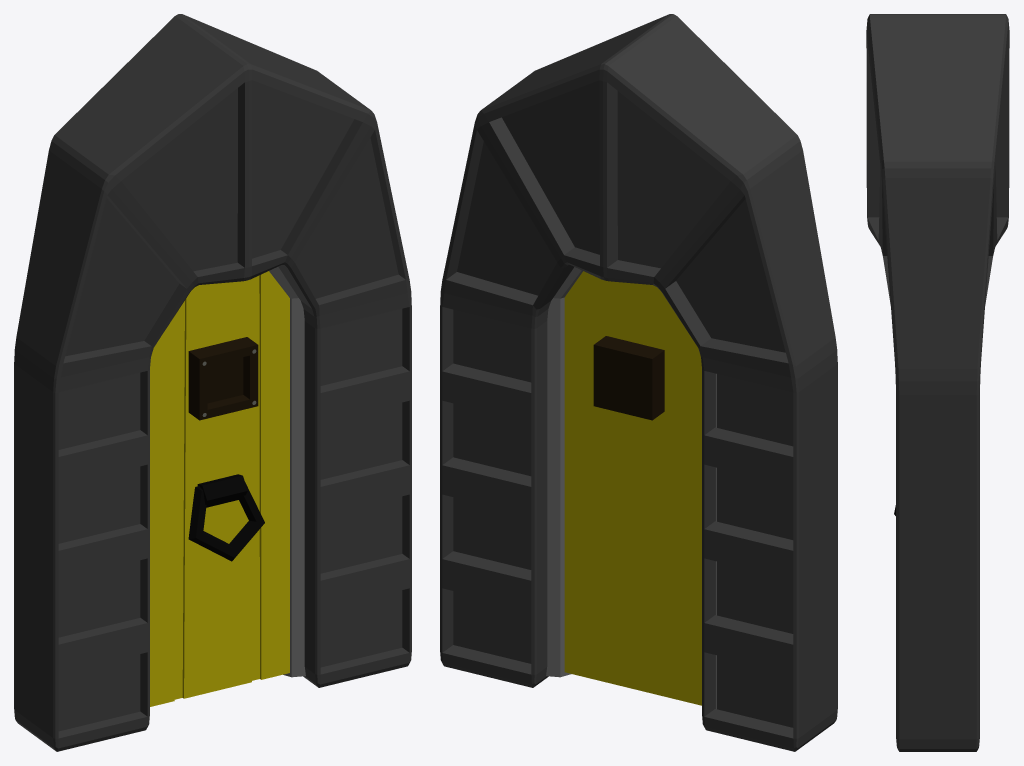
Rendered from door_yellow.fbx.
3 views of the same model, side by side, from view 1: azimuth 30°, elevation 25°; view 2: azimuth 150°, elevation 25°; view 3: azimuth 270°, elevation 25° (orthographic).
Parts seen in each view (by area): view 1: door_yellow; view 2: door_yellow; view 3: door_yellow.
Part boxes in pixels (left/top/right/bottom): door_yellow: left=14, top=14, right=411, bottom=751; door_yellow: left=440, top=14, right=837, bottom=751; door_yellow: left=866, top=14, right=1009, bottom=751.
Bounding box in the file's own units: 390 × 682 × 136.
Materials: 1 (1 with a texture image).
